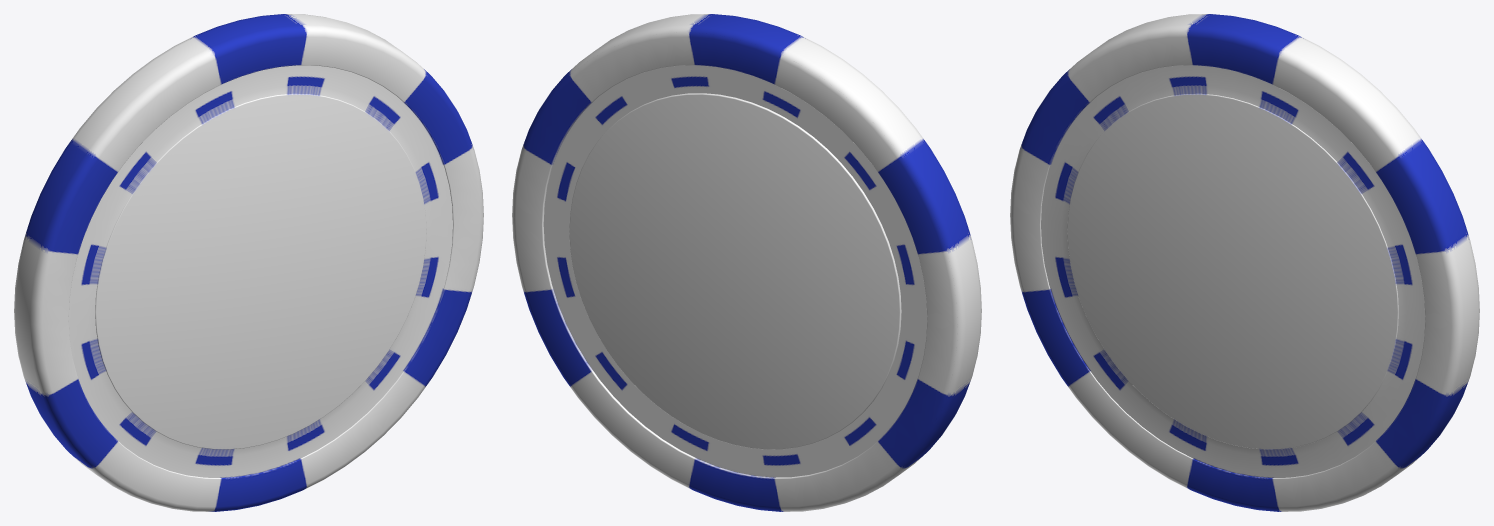
The model's file is white_blue.glb.
3 views of the same model, side by side, from view 1: azimuth 30°, elevation 25°; view 2: azimuth 150°, elevation 25°; view 3: azimuth 330°, elevation 25° (orthographic).
Visible parts, largest first — view 1: chips.450_chips_white_bake_0; view 2: chips.450_chips_white_bake_0; view 3: chips.450_chips_white_bake_0.
Part boxes in pixels (box(x1,y1,x2,y2)): chips.450_chips_white_bake_0: box(14, 14, 483, 511); chips.450_chips_white_bake_0: box(512, 14, 981, 511); chips.450_chips_white_bake_0: box(1010, 14, 1479, 511).
Size of the model in its own units: 2 by 2 by 0.1882.
Materials: 1 (1 with a texture image).
